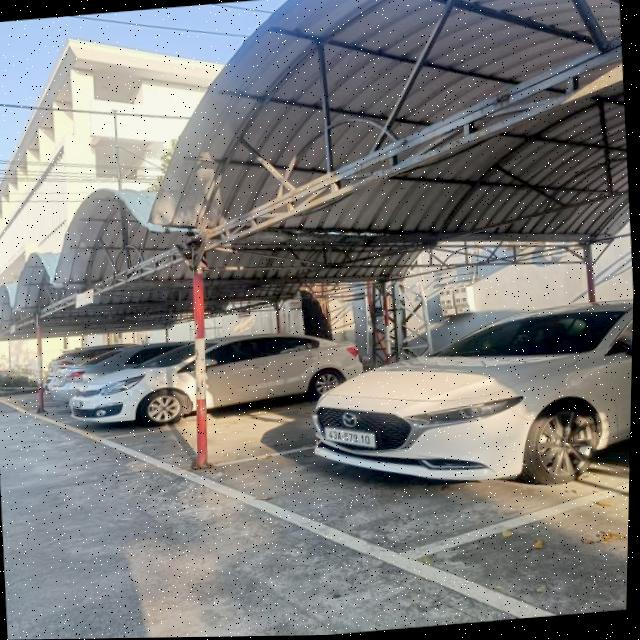car: (292, 302, 633, 507), (39, 314, 377, 447)
plate: (317, 418, 380, 455)
